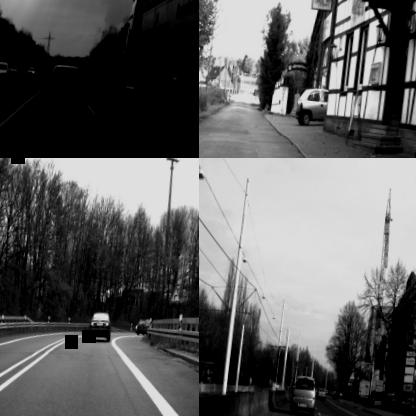bend: (168, 284, 182, 304)
